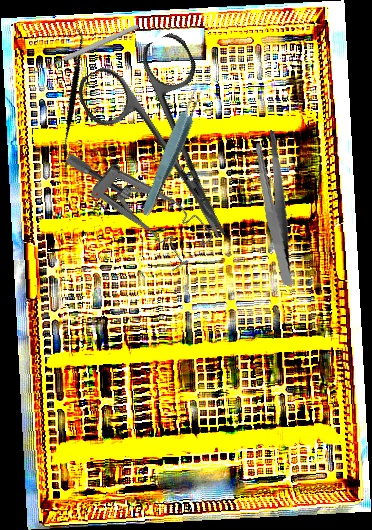Dressing Forceps: (239, 128, 311, 287)
Iris Scissors: (71, 28, 271, 266)
Spatula Surgical: (18, 25, 127, 159)
Speculum: (61, 116, 219, 284)
Surgical Spoon: (31, 22, 140, 77)
Tissue Forceps: (137, 83, 208, 219)
